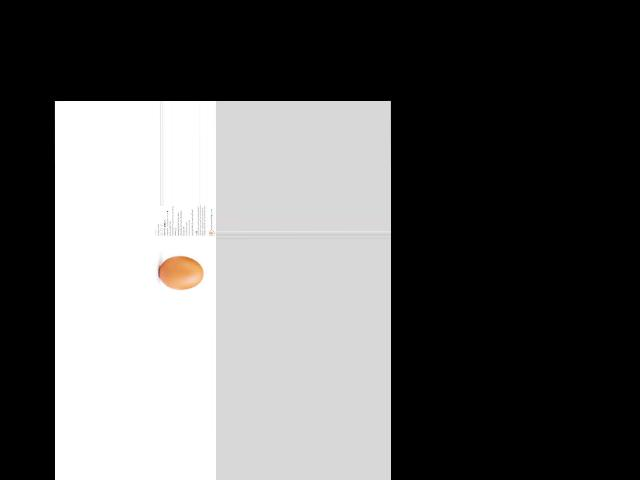egg: (159, 255, 203, 289)
